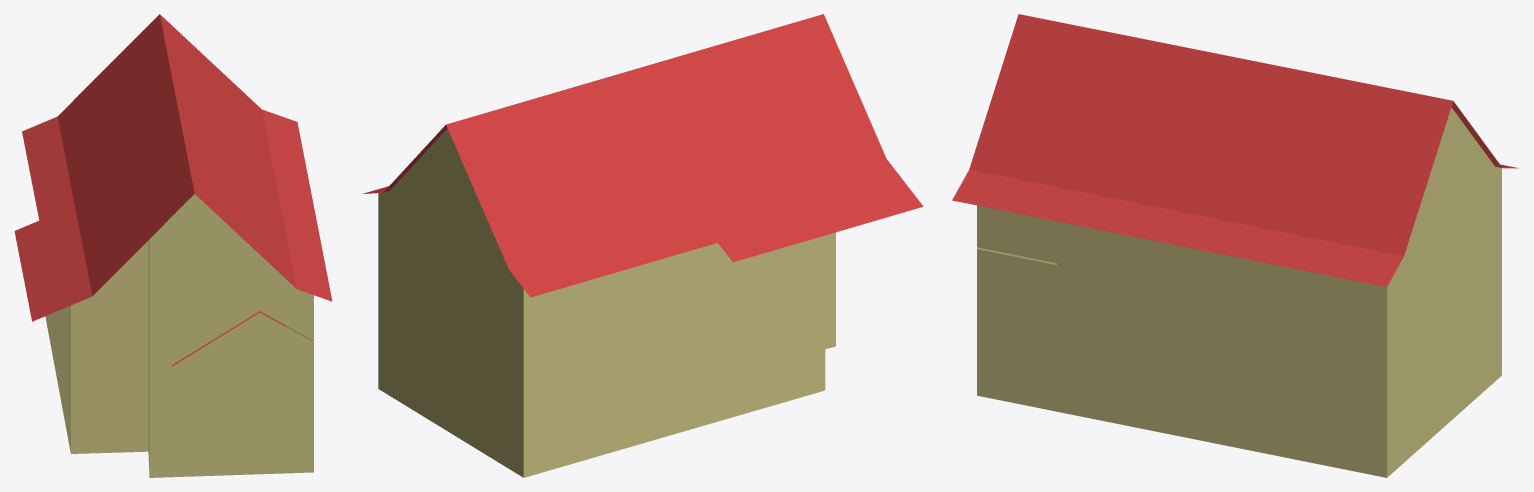
3 renders of one model, left to right at view 1: azimuth 30°, elevation 25°; view 2: azimuth 150°, elevation 25°; view 3: azimuth 270°, elevation 25°, orthographic. The views are drawn at different scales.
Bounding box in the file's own units: 24.88 × 27.58 × 17.48.
